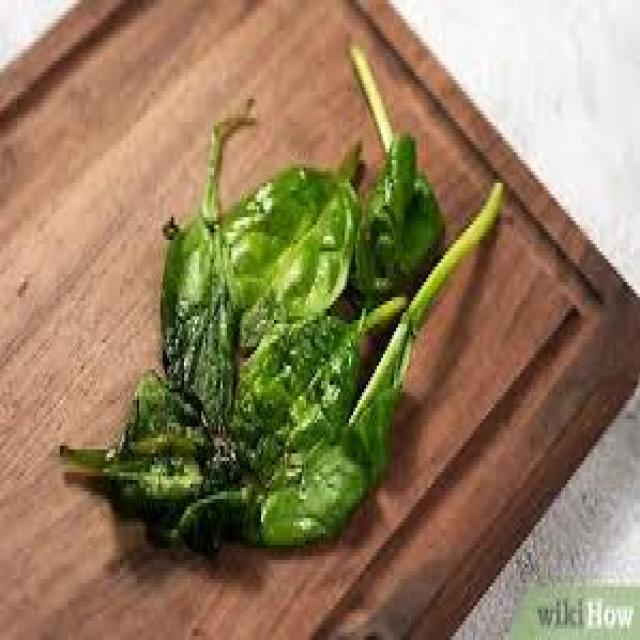rotten spinach: (95, 113, 511, 552)
